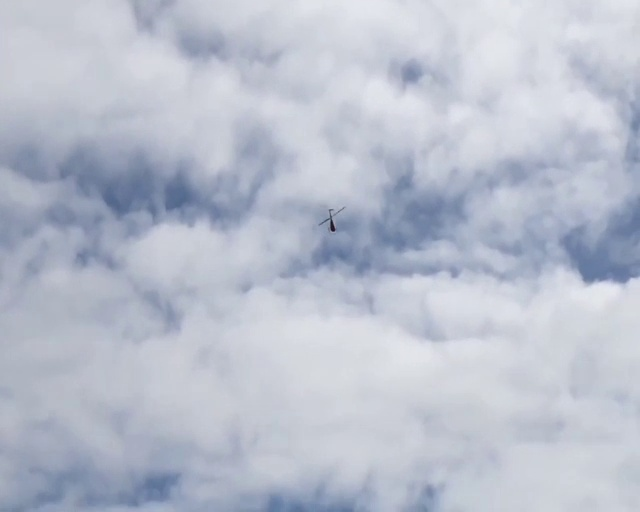HELICOPTER: (318, 205, 346, 232)
